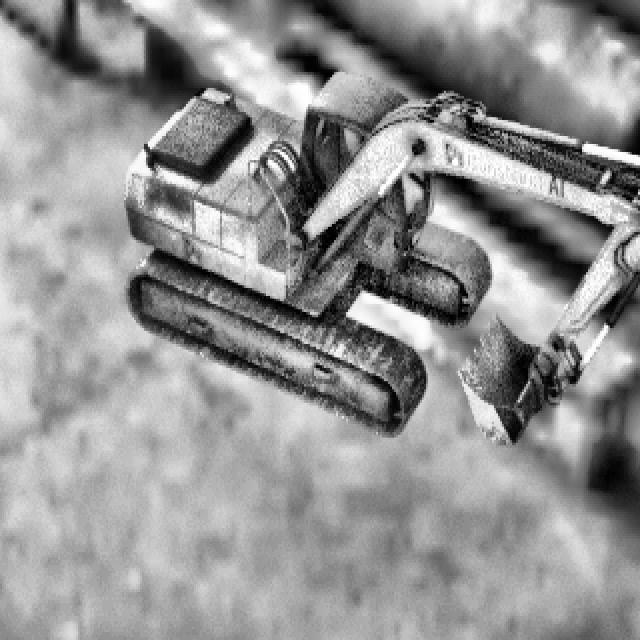excavator: (124, 69, 640, 443)
